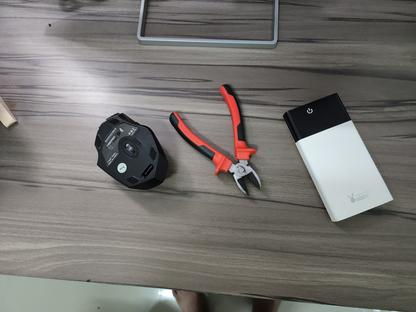mouse: (92, 112, 169, 190)
